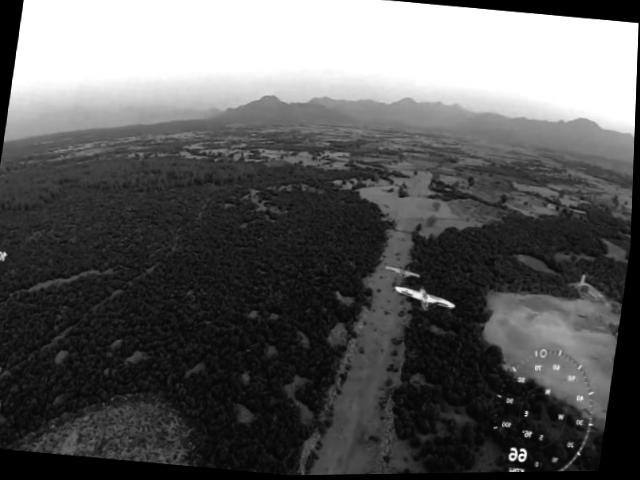hedef: (380, 272, 470, 329)
